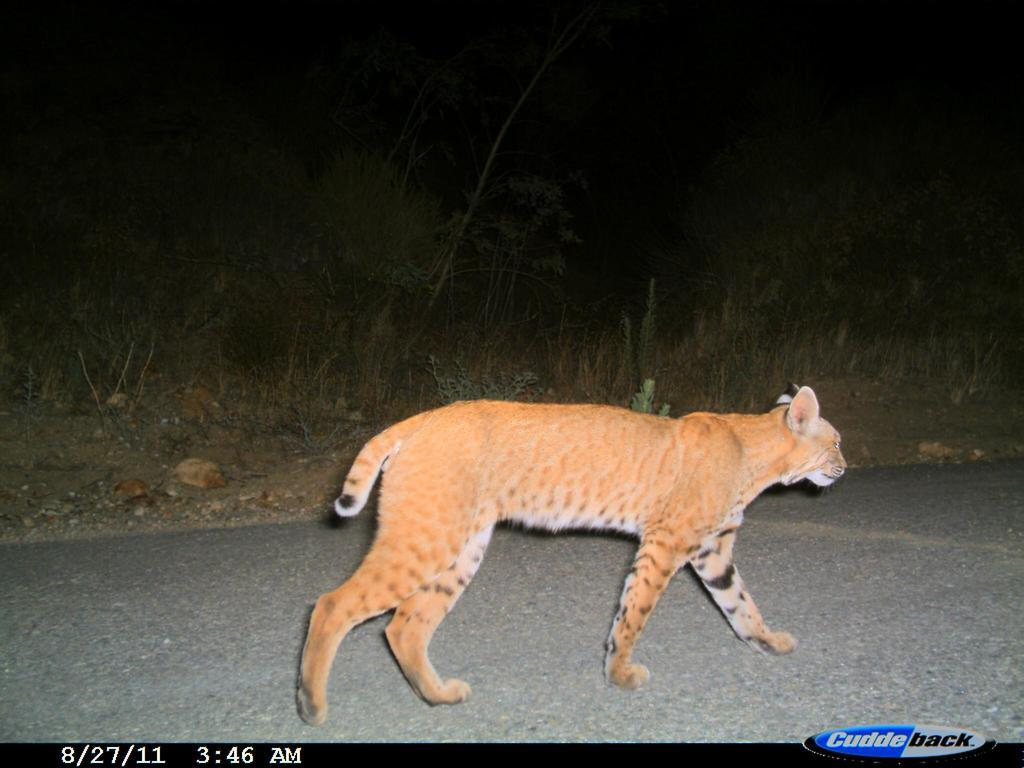bobcat: (291, 381, 850, 733)
